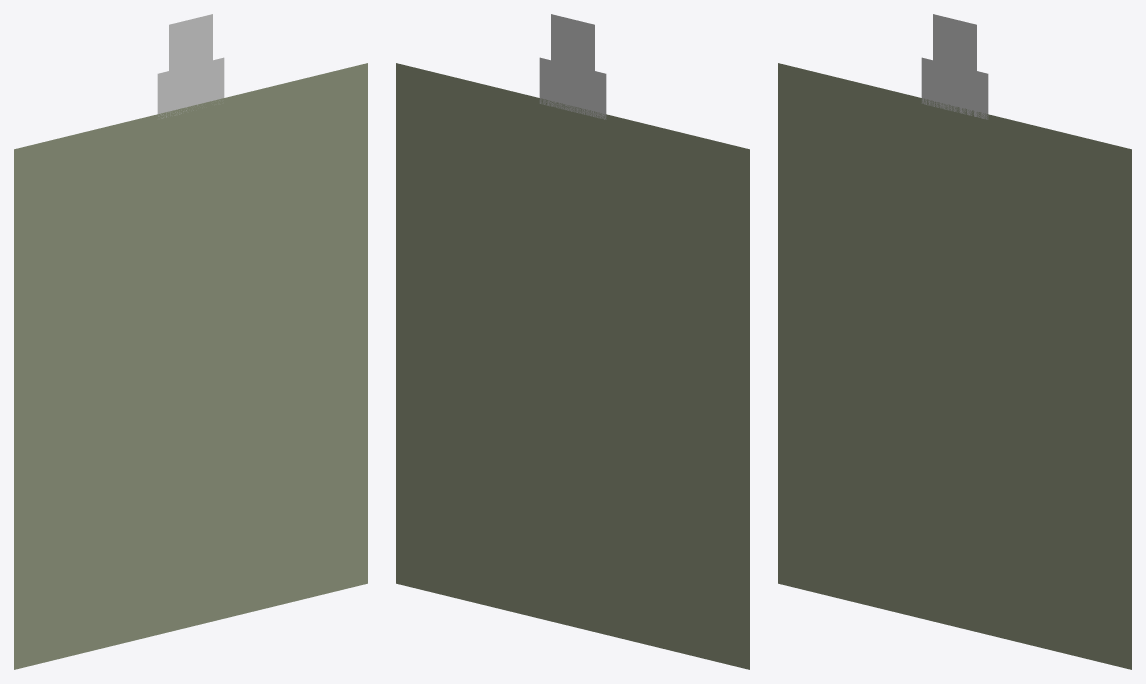
File: card.glb
3 views of the same model, side by side, from view 1: azimuth 30°, elevation 25°; view 2: azimuth 150°, elevation 25°; view 3: azimuth 330°, elevation 25° (orthographic).
Parts seen in each view (by area): view 1: card, clip, clamp; view 2: card, clip, clamp; view 3: card, clip, clamp.
Boxes of the visible parts, box(x1,y1,x2,y2) form: card: box(14, 63, 367, 669); clip: box(157, 57, 224, 118); clamp: box(169, 14, 212, 81); card: box(396, 63, 749, 669); clip: box(539, 57, 606, 119); clamp: box(551, 14, 594, 81); card: box(778, 63, 1131, 669); clip: box(921, 57, 988, 119); clamp: box(933, 14, 976, 82).
Size of the model in its own units: 1.6 by 2.62 by 0.
